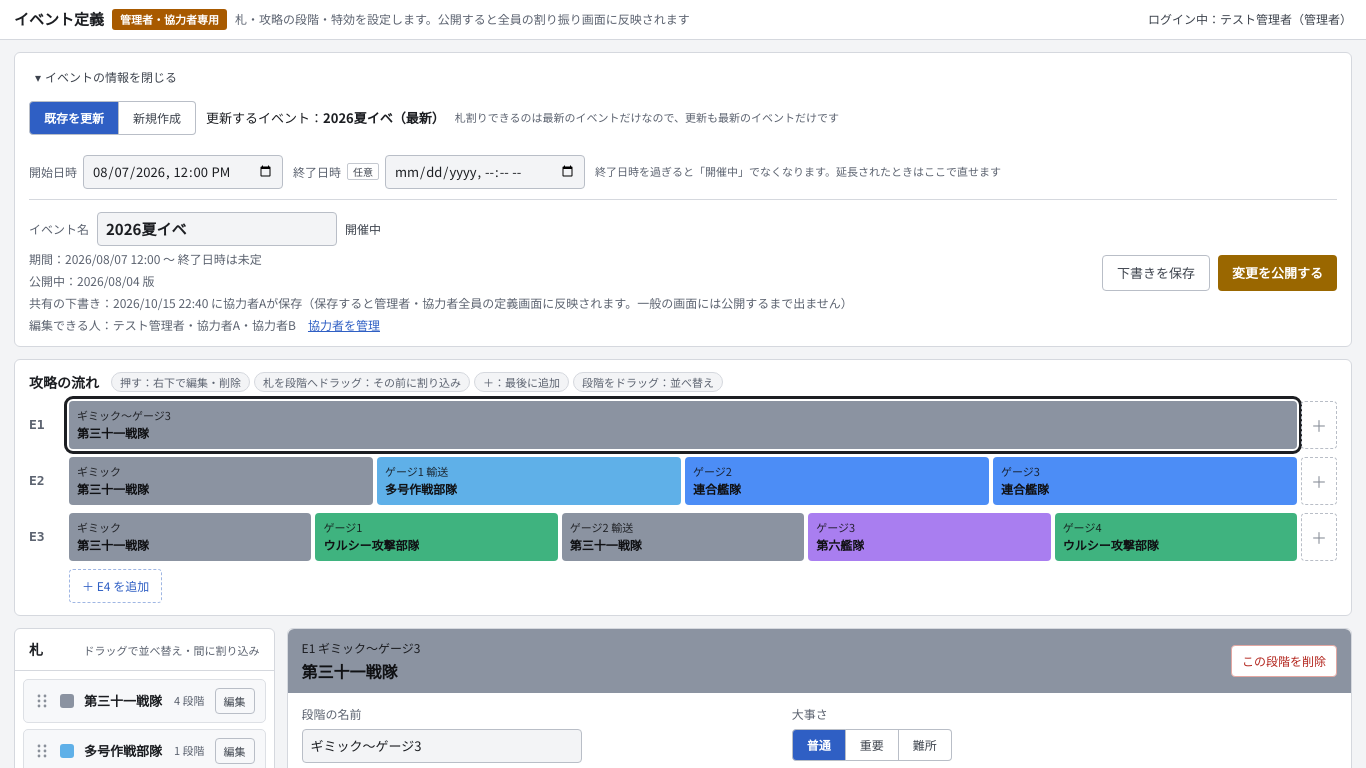
Test: イベント定義の画面（PlanEditor）：攻略の流れと札の一覧 › 攻略の流れ › メニューで札を選ぶと、その海域の一番右に「新しい段階」（大事さ「普通」）を追加して選び、メニューを閉じる
This screenshot has width=1366, height=768.
Expected: the element "攻略の流れ" is shown, [14,358,1352,616]
Click the button named "段階を追加" at (1319, 480), box [1301,456,1337,504]
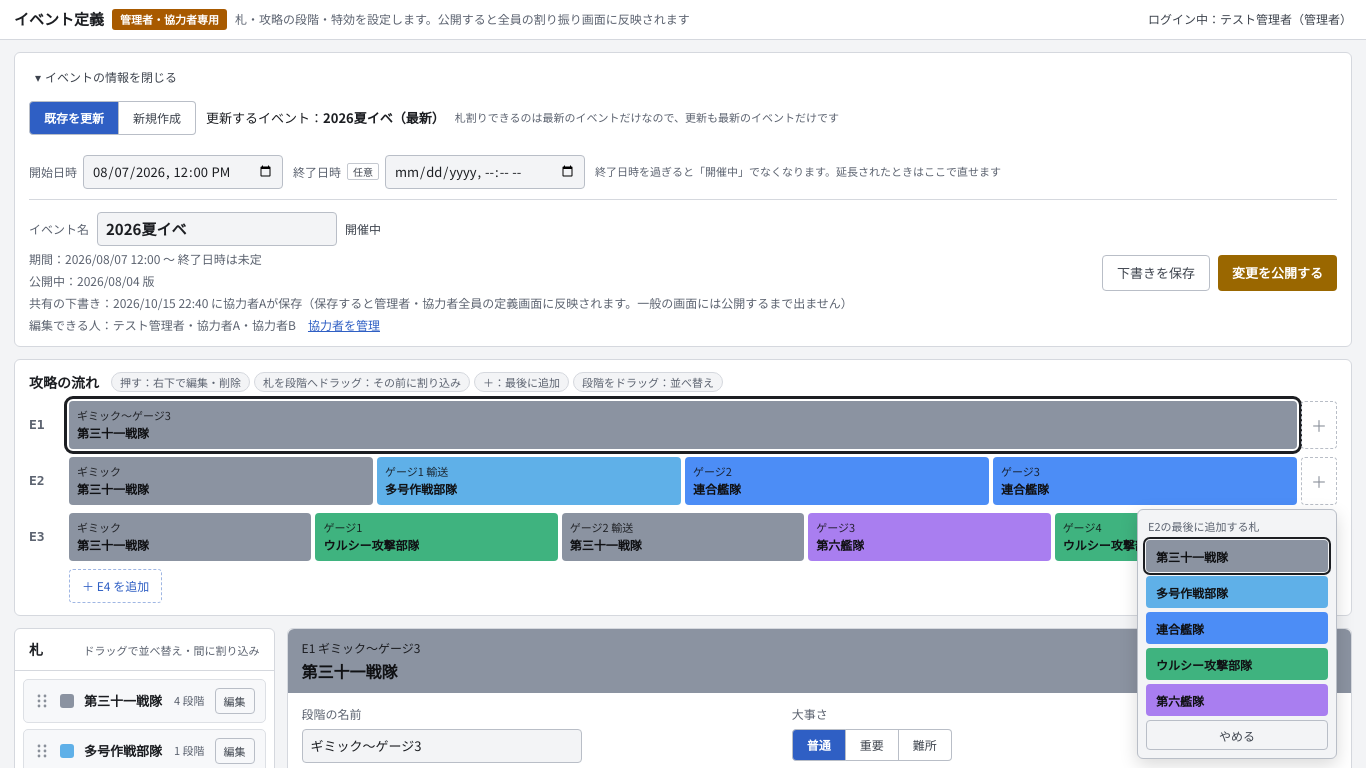
Click the menu item "第六艦隊" at (1237, 700), box [1146,684,1328,716]
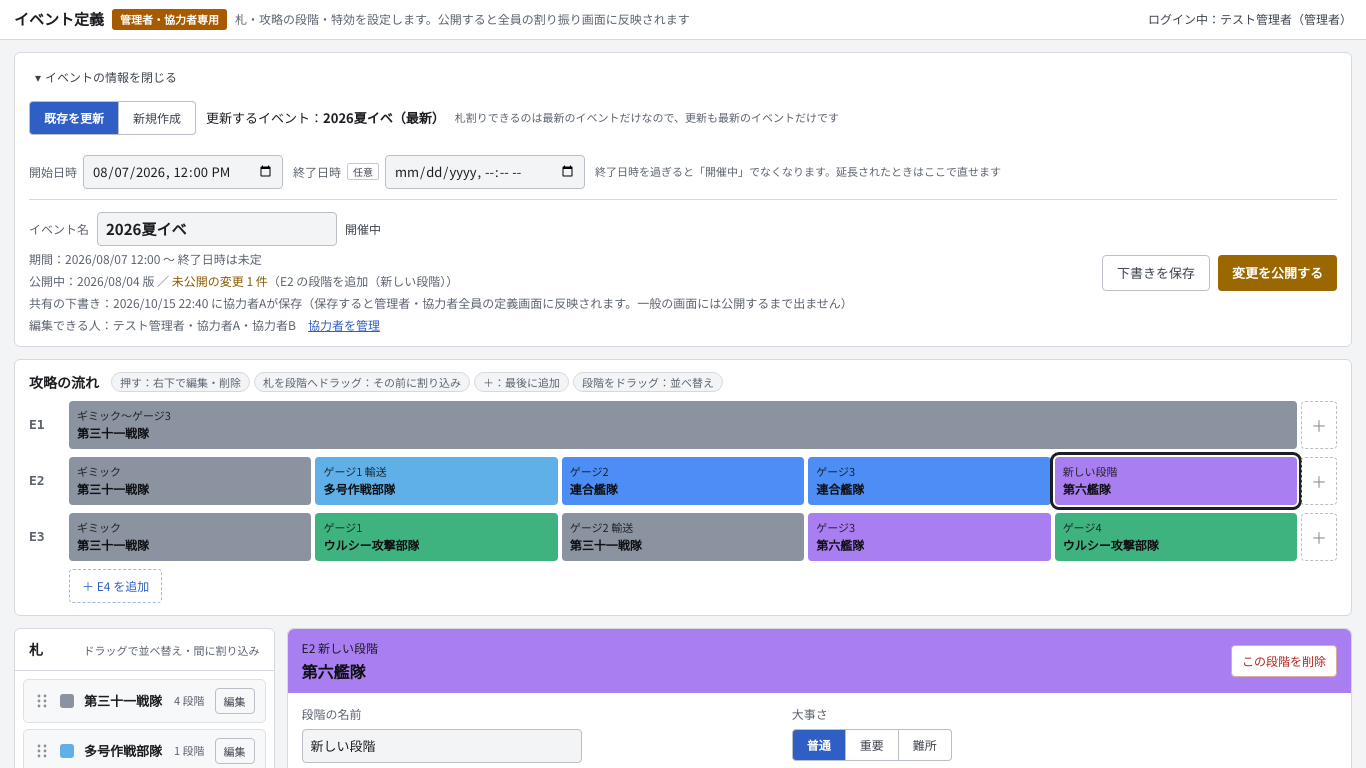
Expected: the menu is gone
Expected: the element named "段階の詳細" shows "E2 新しい段階", [302,638,378,656]
